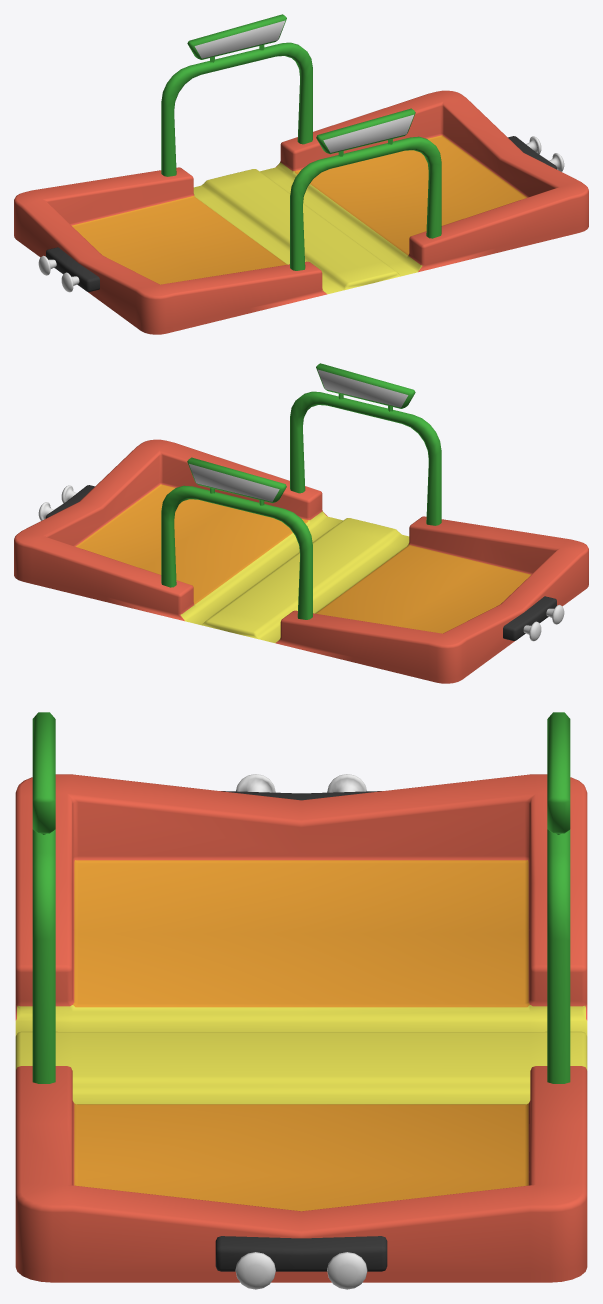
The model's file is TrainStation.fbx.
3 renders of one model, top to bottom at view 1: azimuth 30°, elevation 25°; view 2: azimuth 150°, elevation 25°; view 3: azimuth 270°, elevation 25°, orthographic. The views are drawn at different scales.
Visible parts, largest first — view 1: Workshop, Sign; view 2: Workshop, Sign; view 3: Workshop, Sign.
Boxes of the visible parts, box(x1,y1,x2,y2) form: Workshop: box(14, 90, 588, 334); Sign: box(161, 14, 441, 270); Workshop: box(14, 439, 588, 683); Sign: box(161, 363, 441, 619); Workshop: box(15, 774, 587, 1289); Sign: box(32, 712, 570, 1083).
Bounding box in the file's own units: 2009 × 606 × 1000.
